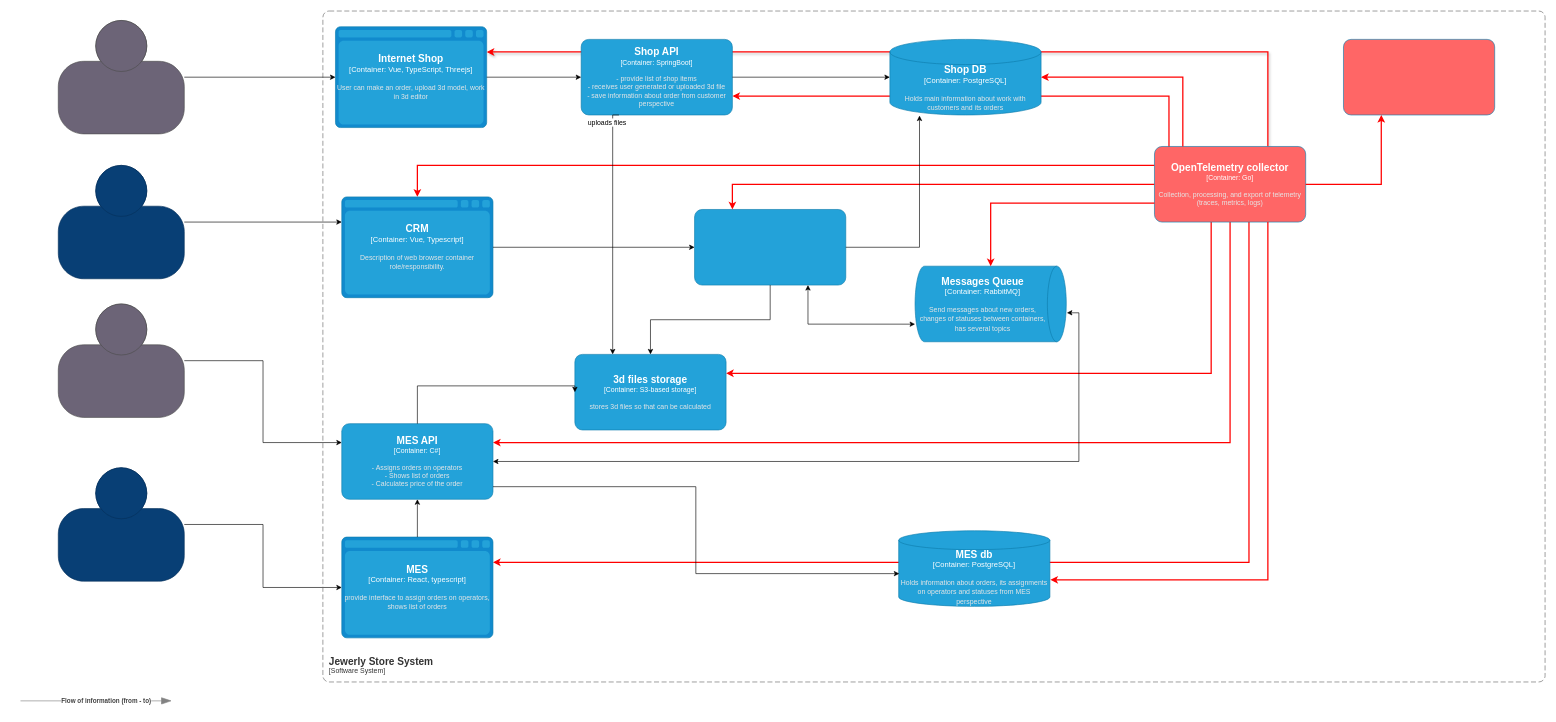
Some shapes in this 1556 by 722 pixel diagram are drawn without their labels. Each missing label, with the centre of its shape:
API user [Person] Description of external person.: the point at 121,360
CRM API [Container: SpringBoot] Description of container role/responsibility.: the point at 770,247
Customer [Person] Description of external person.: the point at 121,77
Jaeger [Container: Go/React] Storing and visualizing traces: the point at 1419,77
Operator [Person] Takes order in work, manufactures jewerly: the point at 121,524
Seller [Person] Operates with order, confirms manufacturing for the user: the point at 121,222
